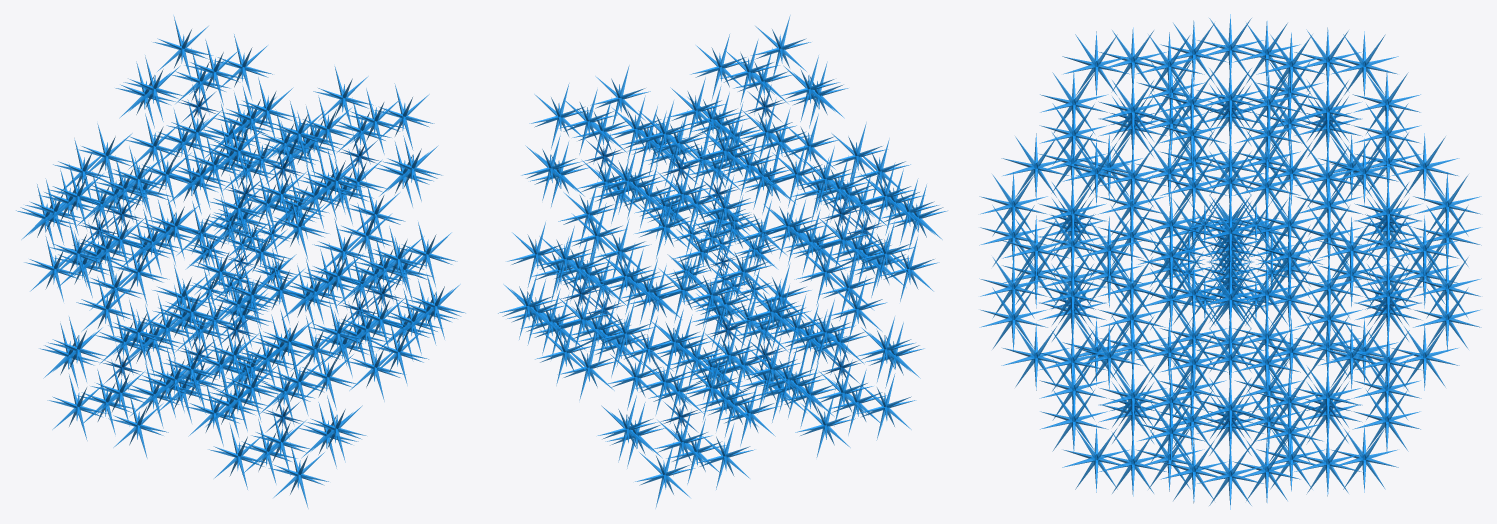
File: fractalmedialinvertedpentagonalhexecontahedron2.glb
The picture shows the model from 3 angles, left to right: view 1: azimuth 30°, elevation 25°; view 2: azimuth 150°, elevation 25°; view 3: azimuth 270°, elevation 25°; orthographic projection. The views are drawn at different scales.
Size of the model in its own units: 11.06 by 11.06 by 11.06.
